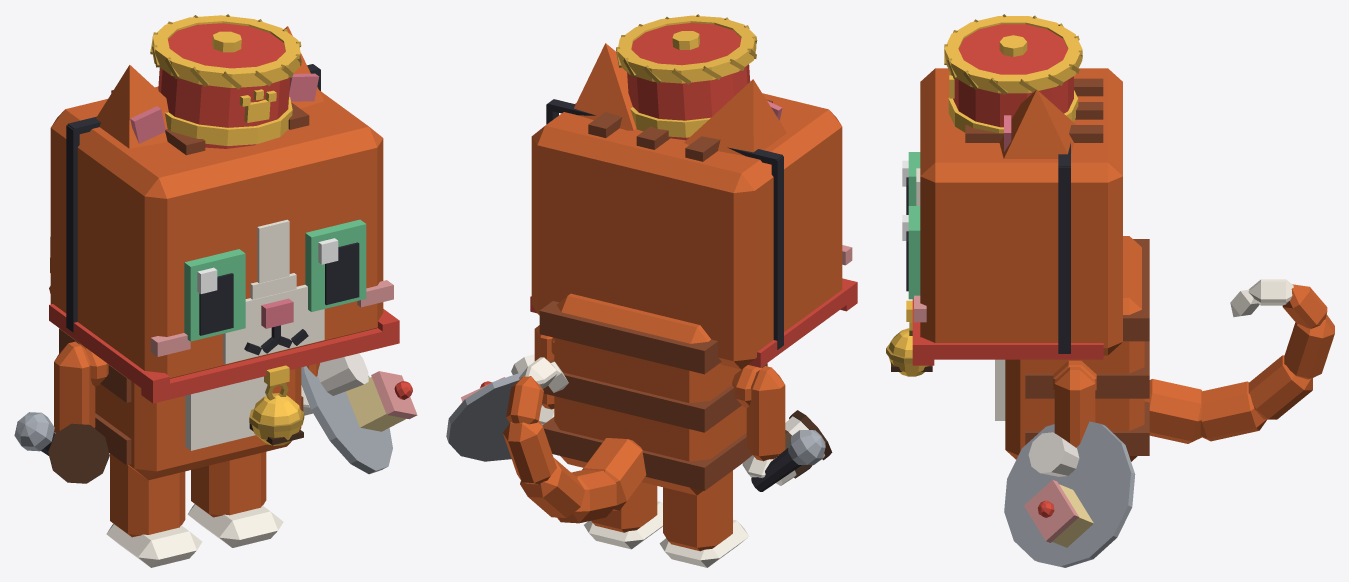
Rendered from CatCafe_Cat_BellhopCat_Work.glb.
3 views of the same model, side by side, from view 1: azimuth 30°, elevation 25°; view 2: azimuth 150°, elevation 25°; view 3: azimuth 270°, elevation 25° (orthographic). The views are drawn at different scales.
Visible parts, largest first — view 1: CatCafe_Cat_BellhopCat_Work_Head, CatCafe_Cat_BellhopCat_Work_Prop, CatCafe_Cat_BellhopCat_Work_Body, CatCafe_Cat_BellhopCat_Work_Prop2, CatCafe_Cat_BellhopCat_Work_Held_Waiter, CatCafe_Cat_BellhopCat_Work_LegB2, CatCafe_Cat_BellhopCat_Work_LegB1, CatCafe_Cat_BellhopCat_Work_Eye2, CatCafe_Cat_BellhopCat_Work_Eye1, CatCafe_Cat_BellhopCat_Work_EarR, CatCafe_Cat_BellhopCat_Work_LegF2, CatCafe_Cat_BellhopCat_Work_Held_Barista (+3 smaller); view 2: CatCafe_Cat_BellhopCat_Work_Head, CatCafe_Cat_BellhopCat_Work_Body, CatCafe_Cat_BellhopCat_Work_Prop, CatCafe_Cat_BellhopCat_Work_Tail, CatCafe_Cat_BellhopCat_Work_LegB2, CatCafe_Cat_BellhopCat_Work_Prop2, CatCafe_Cat_BellhopCat_Work_Held_Waiter, CatCafe_Cat_BellhopCat_Work_EarR, CatCafe_Cat_BellhopCat_Work_LegF2, CatCafe_Cat_BellhopCat_Work_LegB1, CatCafe_Cat_BellhopCat_Work_EarL, CatCafe_Cat_BellhopCat_Work_Held_Entertainer (+2 smaller); view 3: CatCafe_Cat_BellhopCat_Work_Head, CatCafe_Cat_BellhopCat_Work_Held_Waiter, CatCafe_Cat_BellhopCat_Work_Body, CatCafe_Cat_BellhopCat_Work_Tail, CatCafe_Cat_BellhopCat_Work_Prop, CatCafe_Cat_BellhopCat_Work_Prop2, CatCafe_Cat_BellhopCat_Work_EarL, CatCafe_Cat_BellhopCat_Work_LegF1, CatCafe_Cat_BellhopCat_Work_Eye1, CatCafe_Cat_BellhopCat_Work_Bell, CatCafe_Cat_BellhopCat_Work_Eye2.
Boxes of the visible parts, x1=… form: CatCafe_Cat_BellhopCat_Work_Head: x1=50, y1=86, x2=393, y2=378; CatCafe_Cat_BellhopCat_Work_Prop: x1=150, y1=14, x2=301, y2=148; CatCafe_Cat_BellhopCat_Work_Body: x1=59, y1=328, x2=303, y2=480; CatCafe_Cat_BellhopCat_Work_Prop2: x1=49, y1=64, x2=399, y2=403; CatCafe_Cat_BellhopCat_Work_Held_Waiter: x1=301, y1=353, x2=417, y2=474; CatCafe_Cat_BellhopCat_Work_LegB2: x1=106, y1=453, x2=202, y2=567; CatCafe_Cat_BellhopCat_Work_LegB1: x1=187, y1=451, x2=283, y2=547; CatCafe_Cat_BellhopCat_Work_Eye2: x1=184, y1=249, x2=245, y2=341; CatCafe_Cat_BellhopCat_Work_Eye1: x1=305, y1=219, x2=366, y2=311; CatCafe_Cat_BellhopCat_Work_EarR: x1=96, y1=65, x2=168, y2=148; CatCafe_Cat_BellhopCat_Work_LegF2: x1=54, y1=341, x2=95, y2=433; CatCafe_Cat_BellhopCat_Work_Held_Barista: x1=48, y1=423, x2=109, y2=483; CatCafe_Cat_BellhopCat_Work_Head: x1=531, y1=93, x2=852, y2=369; CatCafe_Cat_BellhopCat_Work_Body: x1=539, y1=293, x2=767, y2=495; CatCafe_Cat_BellhopCat_Work_Prop: x1=616, y1=14, x2=757, y2=140; CatCafe_Cat_BellhopCat_Work_Tail: x1=503, y1=357, x2=646, y2=523; CatCafe_Cat_BellhopCat_Work_LegB2: x1=659, y1=470, x2=749, y2=567; CatCafe_Cat_BellhopCat_Work_Prop2: x1=530, y1=99, x2=857, y2=367; CatCafe_Cat_BellhopCat_Work_Held_Waiter: x1=446, y1=354, x2=534, y2=461; CatCafe_Cat_BellhopCat_Work_EarR: x1=684, y1=79, x2=786, y2=156; CatCafe_Cat_BellhopCat_Work_LegF2: x1=742, y1=366, x2=785, y2=478; CatCafe_Cat_BellhopCat_Work_LegB1: x1=584, y1=482, x2=662, y2=549; CatCafe_Cat_BellhopCat_Work_EarL: x1=574, y1=43, x2=636, y2=130; CatCafe_Cat_BellhopCat_Work_Held_Entertainer: x1=751, y1=430, x2=825, y2=491; CatCafe_Cat_BellhopCat_Work_Head: x1=914, y1=68, x2=1122, y2=355; CatCafe_Cat_BellhopCat_Work_Held_Waiter: x1=1004, y1=421, x2=1135, y2=567; CatCafe_Cat_BellhopCat_Work_Body: x1=995, y1=236, x2=1149, y2=461; CatCafe_Cat_BellhopCat_Work_Tail: x1=1144, y1=279, x2=1334, y2=443; CatCafe_Cat_BellhopCat_Work_Prop: x1=944, y1=14, x2=1082, y2=133; CatCafe_Cat_BellhopCat_Work_Prop2: x1=906, y1=143, x2=1103, y2=365; CatCafe_Cat_BellhopCat_Work_EarL: x1=999, y1=90, x2=1075, y2=158; CatCafe_Cat_BellhopCat_Work_LegF1: x1=1054, y1=367, x2=1095, y2=447; CatCafe_Cat_BellhopCat_Work_Eye1: x1=902, y1=206, x2=920, y2=299; CatCafe_Cat_BellhopCat_Work_Bell: x1=886, y1=322, x2=932, y2=376; CatCafe_Cat_BellhopCat_Work_Eye2: x1=902, y1=152, x2=920, y2=214.
Bounding box in the file's own units: 1.53 × 1.99 × 1.68.
1 material, 1 textured.
